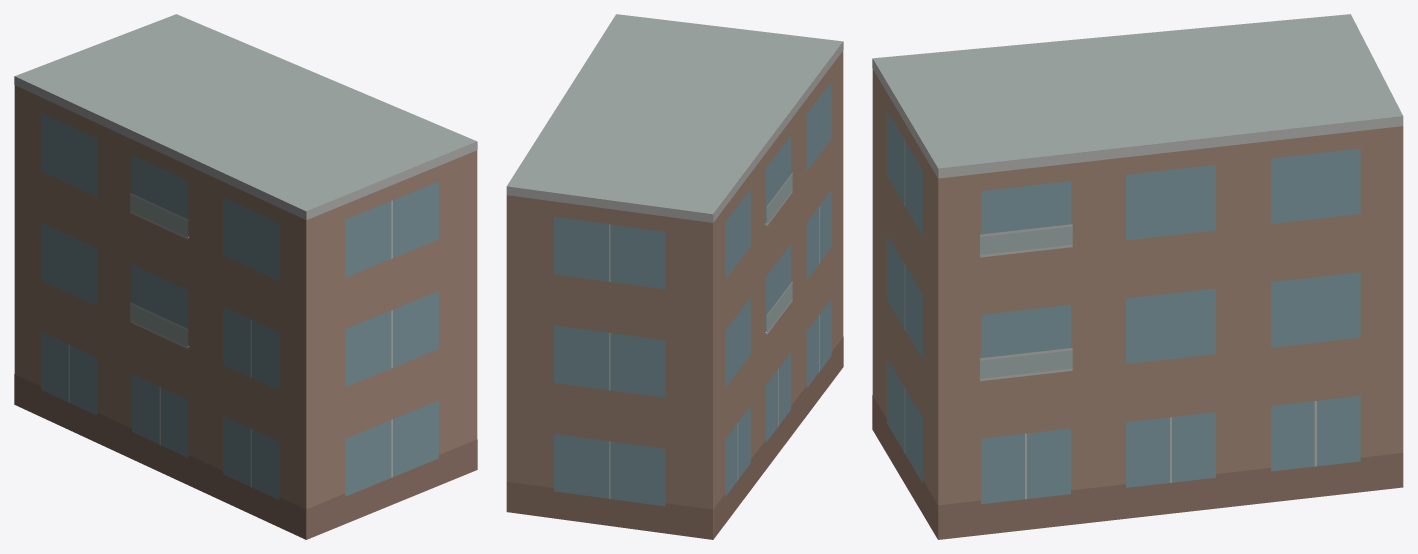
File: survey-upis-32471883.glb
The picture shows the model from 3 angles, left to right: view 1: azimuth 30°, elevation 25°; view 2: azimuth 150°, elevation 25°; view 3: azimuth 270°, elevation 25°; orthographic projection. The views are drawn at different scales.
Parts seen in each view (by area): view 1: survey-upis-32471883.tmp; view 2: survey-upis-32471883.tmp; view 3: survey-upis-32471883.tmp.
Part boxes in pixels (bbox=[...]): survey-upis-32471883.tmp: bbox=[14, 14, 477, 539]; survey-upis-32471883.tmp: bbox=[506, 14, 843, 539]; survey-upis-32471883.tmp: bbox=[872, 14, 1403, 539].
Size of the model in its own units: 8.18 by 9.15 by 11.87.
